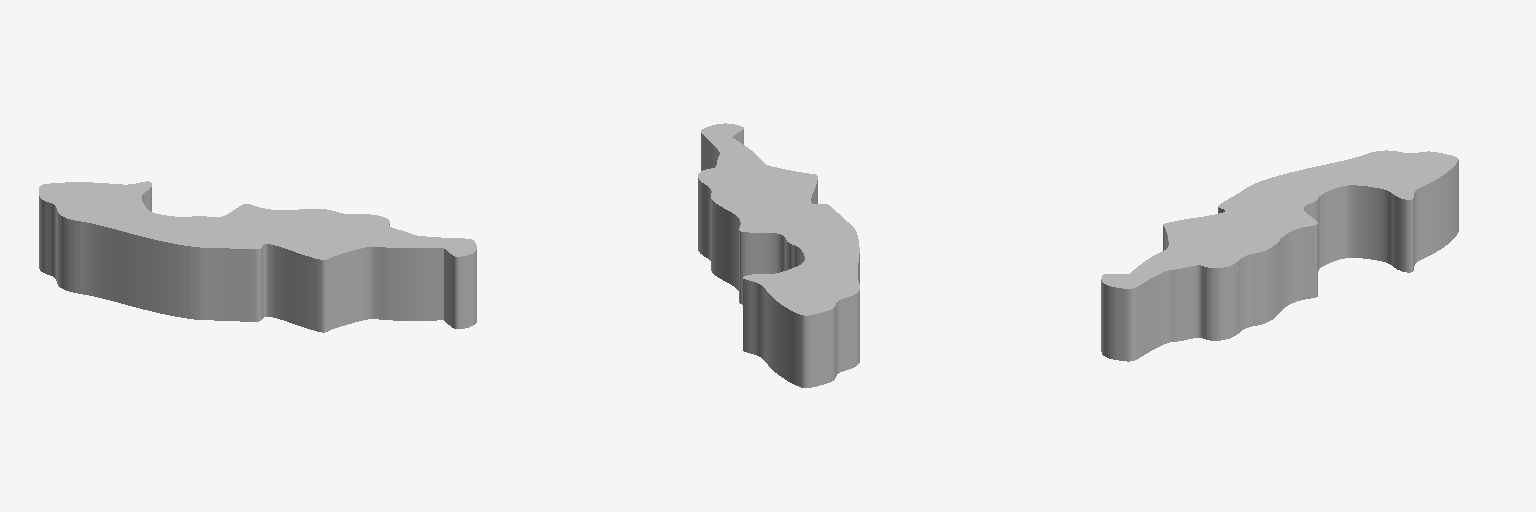
File: South_America_03.obj
3 renders of one model, left to right at view 1: azimuth 30°, elevation 25°; view 2: azimuth 150°, elevation 25°; view 3: azimuth 270°, elevation 25°, orthographic.
Parts seen in each view (by area): view 1: South_America_03_path4214; view 2: South_America_03_path4214; view 3: South_America_03_path4214.
Part boxes in pixels (x1,y1,x2,y2): South_America_03_path4214: (39,181,476,332); South_America_03_path4214: (698,123,859,387); South_America_03_path4214: (1101,150,1458,361).
Bounding box in the file's own units: 0.4096 × 0.1 × 0.4462.